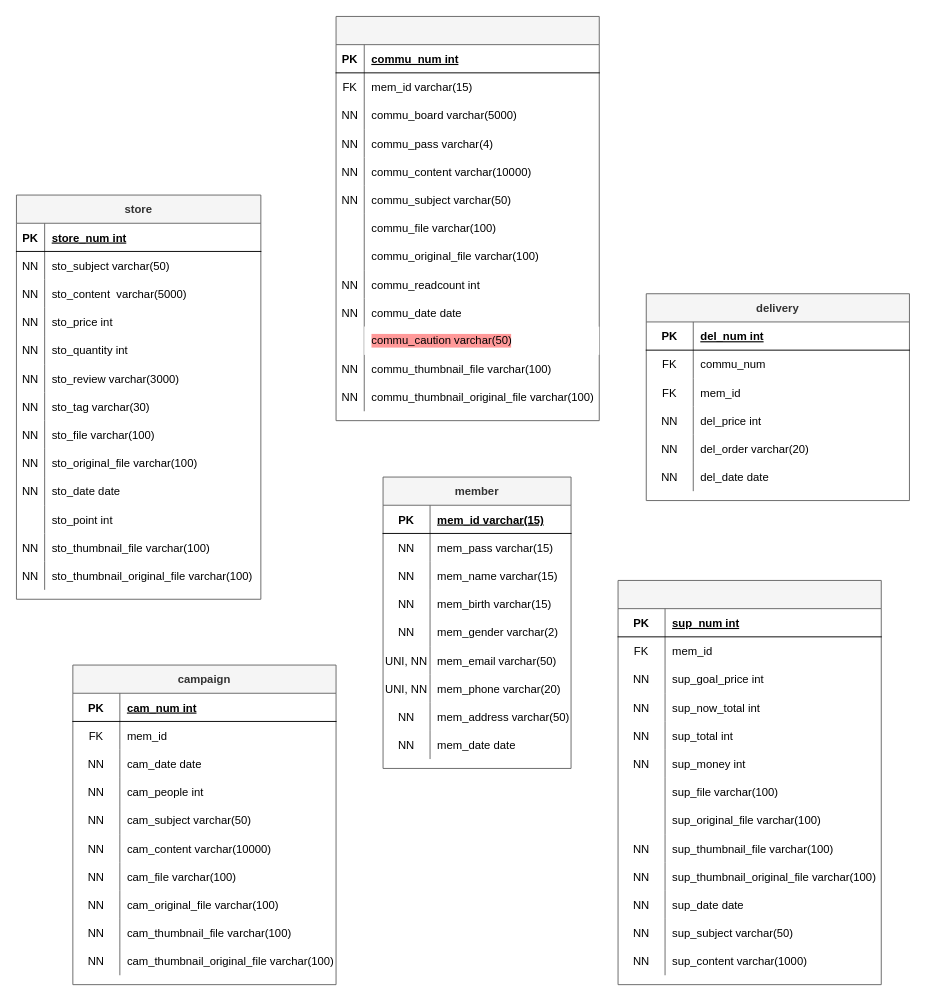
Image size: 926x1001. Some labels were removed from this diagram. Each missing label, with the box of its shape:
community: (335, 16, 599, 421)
support: (617, 580, 881, 985)
